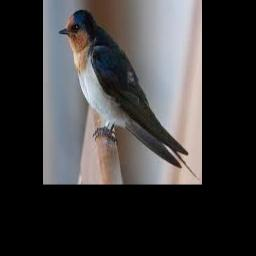Swallow: (58, 9, 199, 181)
